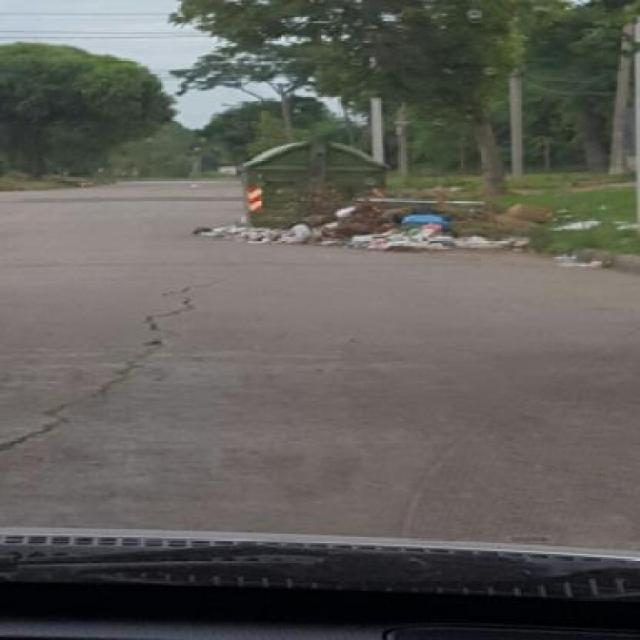garbage: (193, 183, 622, 268)
